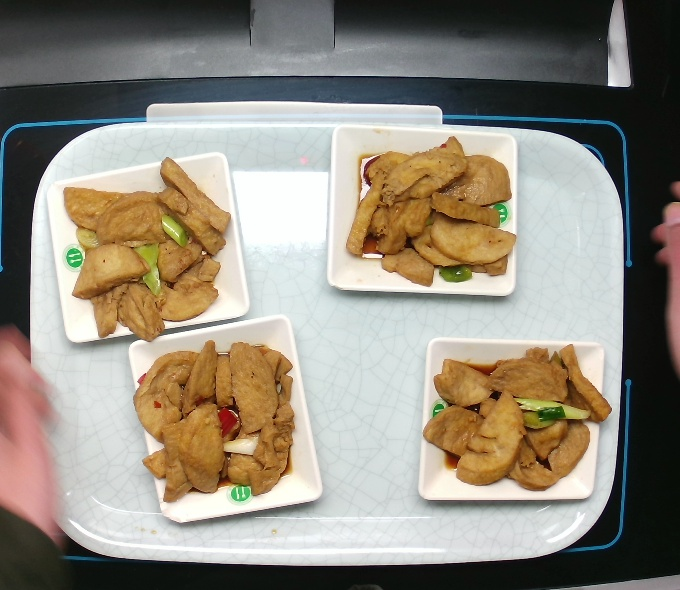wcq-SuJi: (51, 155, 243, 344), (410, 342, 616, 500), (343, 135, 525, 292), (134, 339, 300, 510)
